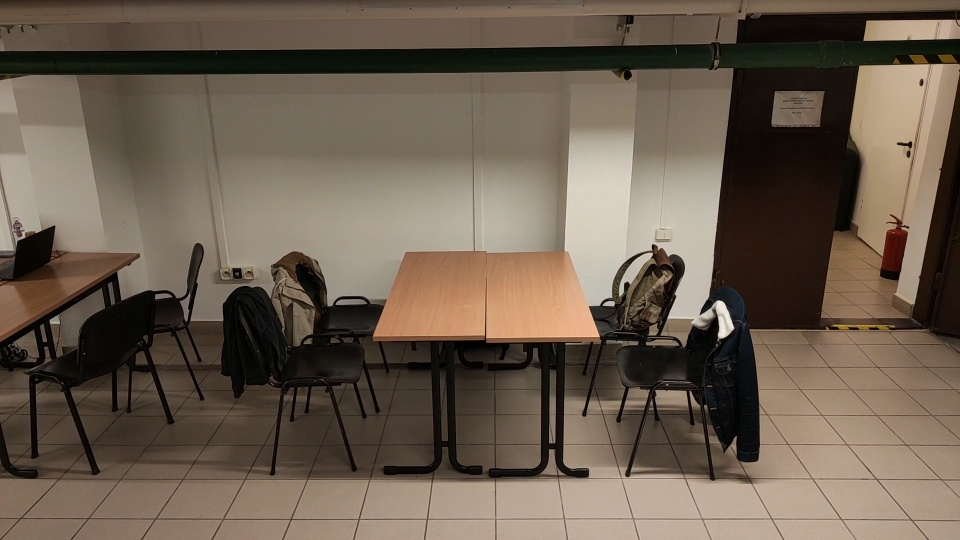chair: (25, 284, 180, 476), (616, 286, 765, 485), (219, 281, 368, 475), (268, 247, 388, 419), (573, 243, 664, 424), (116, 247, 211, 408)
table: (371, 246, 604, 487)
